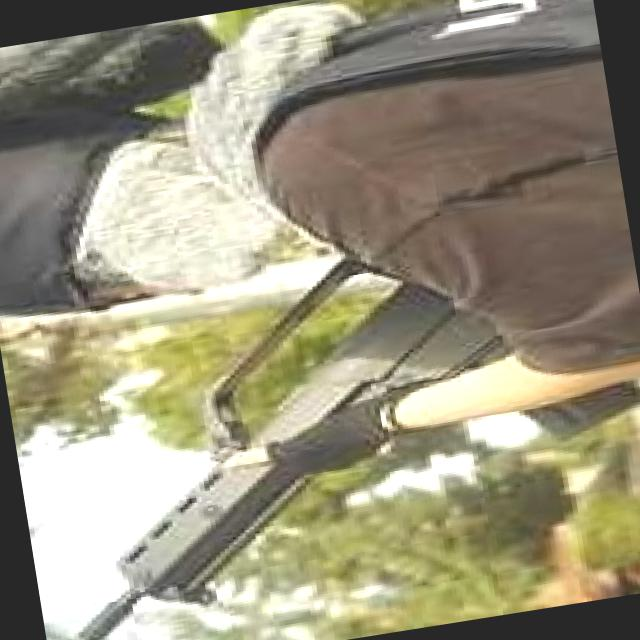long weapon: (19, 263, 505, 639)
